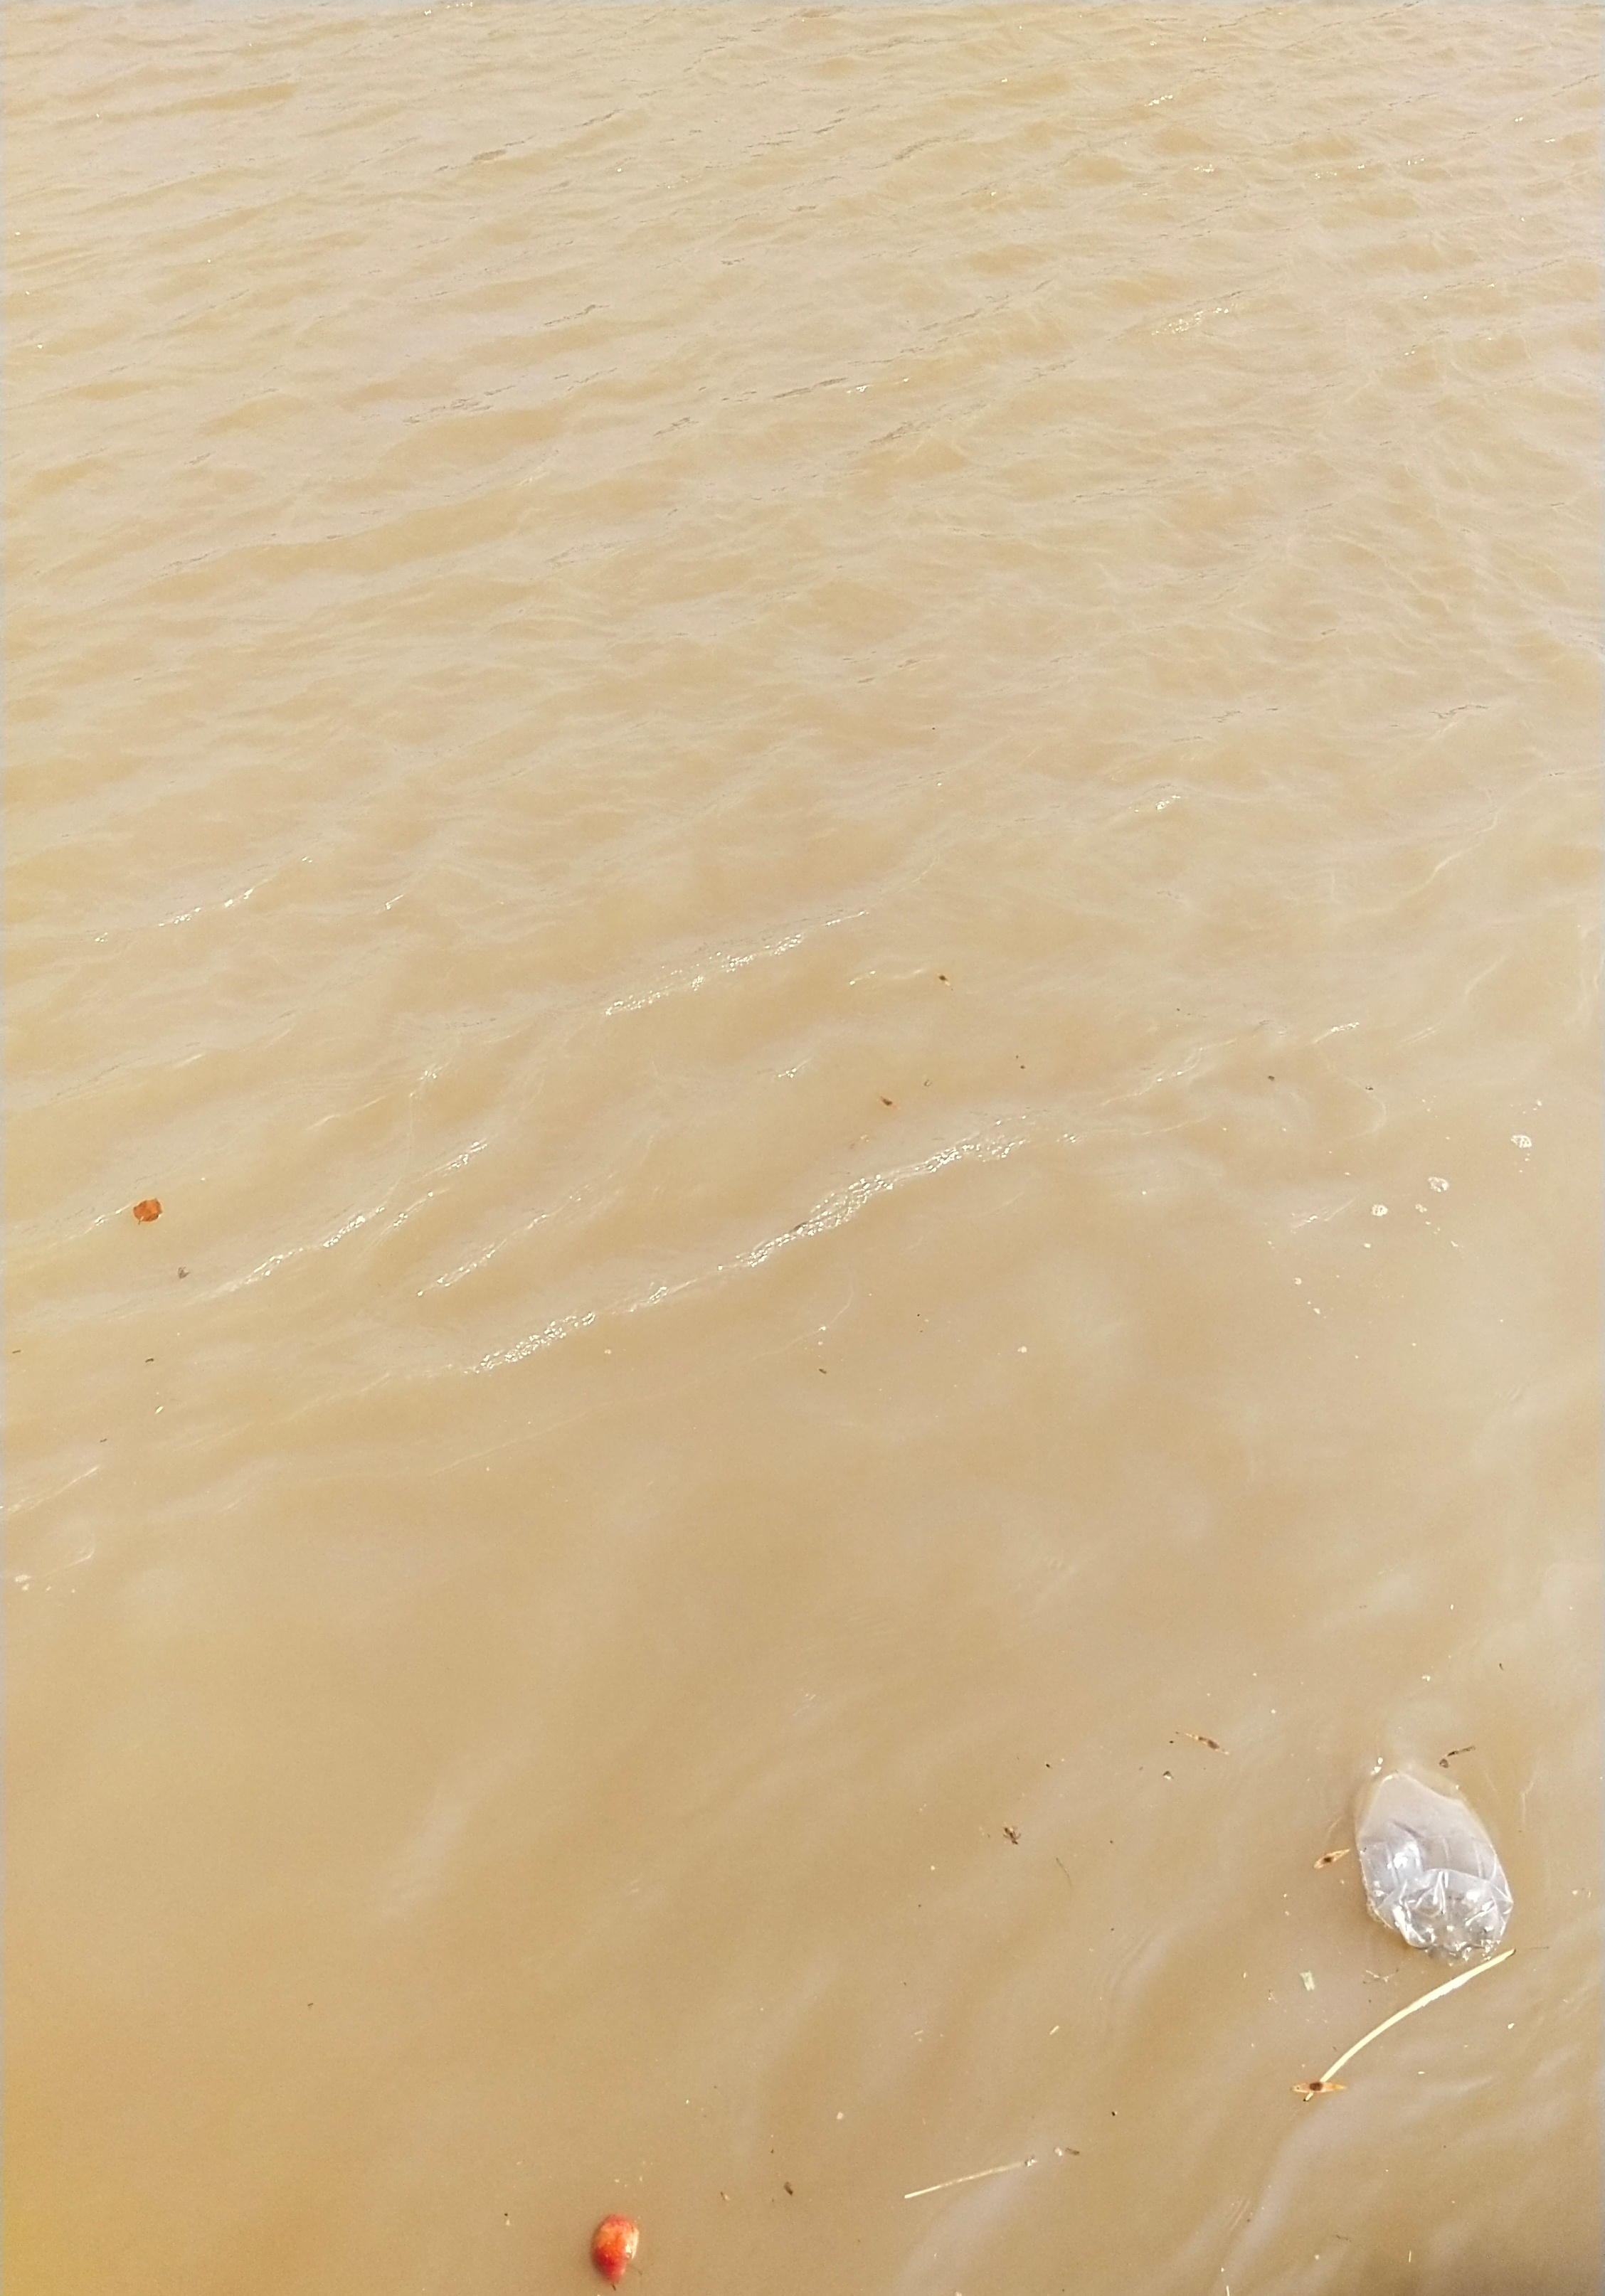Plastic Bottle: (1354, 1764, 1513, 1961)
